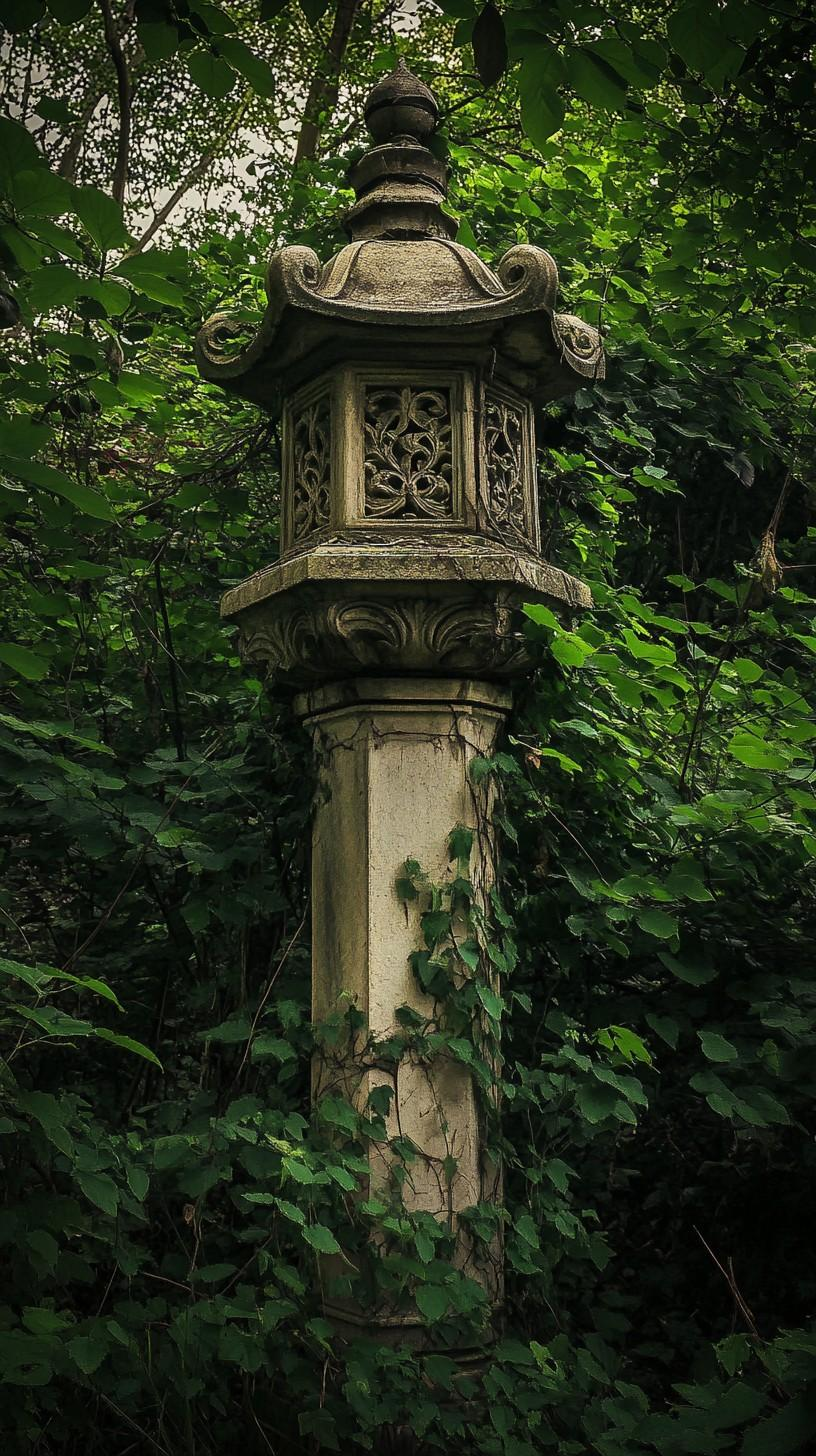overgrown grass: (0, 570, 483, 1455), (505, 627, 815, 1455), (52, 388, 266, 520)
